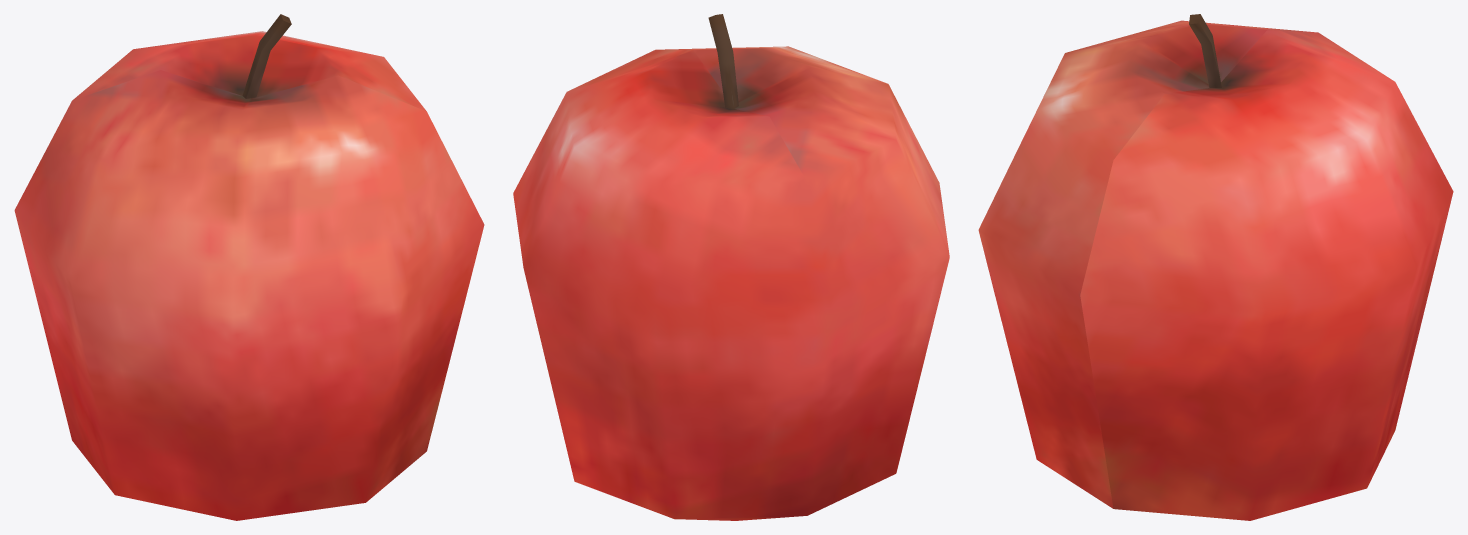
The picture shows the model from 3 angles, left to right: view 1: azimuth 30°, elevation 25°; view 2: azimuth 150°, elevation 25°; view 3: azimuth 270°, elevation 25°; orthographic projection. The views are drawn at different scales.
Visible parts, largest first — view 1: apple2; view 2: apple2; view 3: apple2.
Boxes of the visible parts, box(x1,y1,x2,y2) form: apple2: box(14, 14, 484, 520); apple2: box(513, 14, 949, 520); apple2: box(978, 14, 1453, 520).
Size of the model in its own units: 19.32 by 21.64 by 19.32.
Materials: 1 (1 with a texture image).
